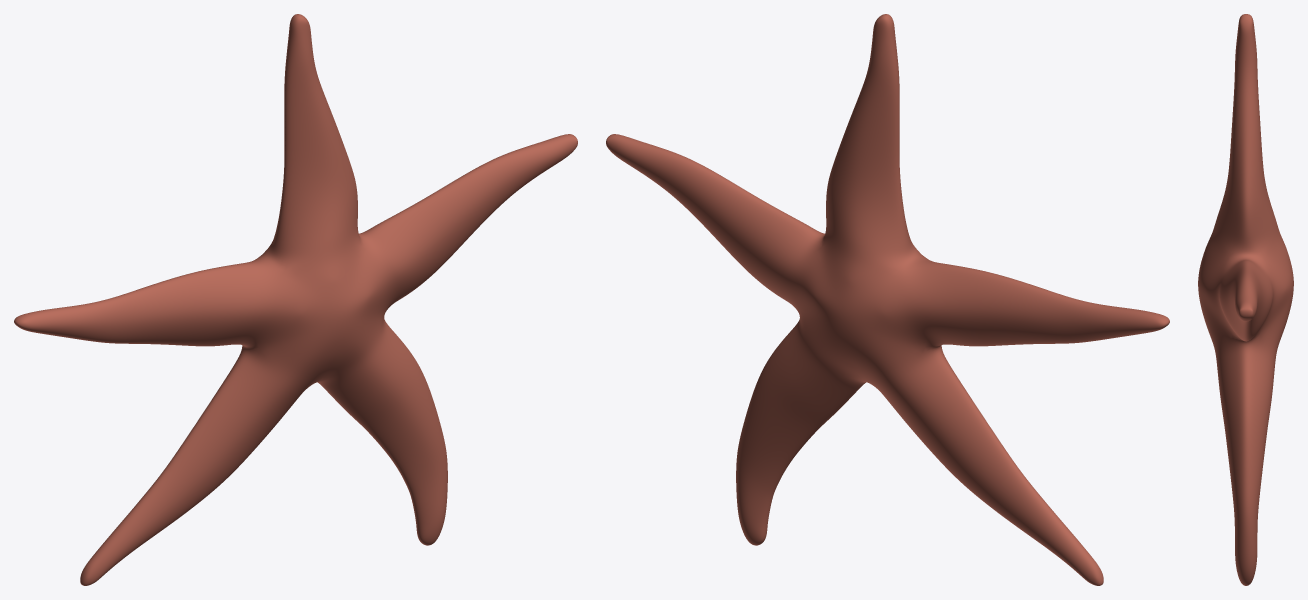
File: StarFish_HP.fbx
3 renders of one model, left to right at view 1: azimuth 30°, elevation 25°; view 2: azimuth 150°, elevation 25°; view 3: azimuth 270°, elevation 25°, orthographic. The views are drawn at different scales.
Parts seen in each view (by area): view 1: pDisc1; view 2: pDisc1; view 3: pDisc1.
Boxes of the visible parts, x1,y1,x2,y2 form: pDisc1: [14, 14, 577, 585]; pDisc1: [606, 14, 1169, 585]; pDisc1: [1198, 14, 1293, 585].
Size of the model in its own units: 12.07 by 11.56 by 1.96.
